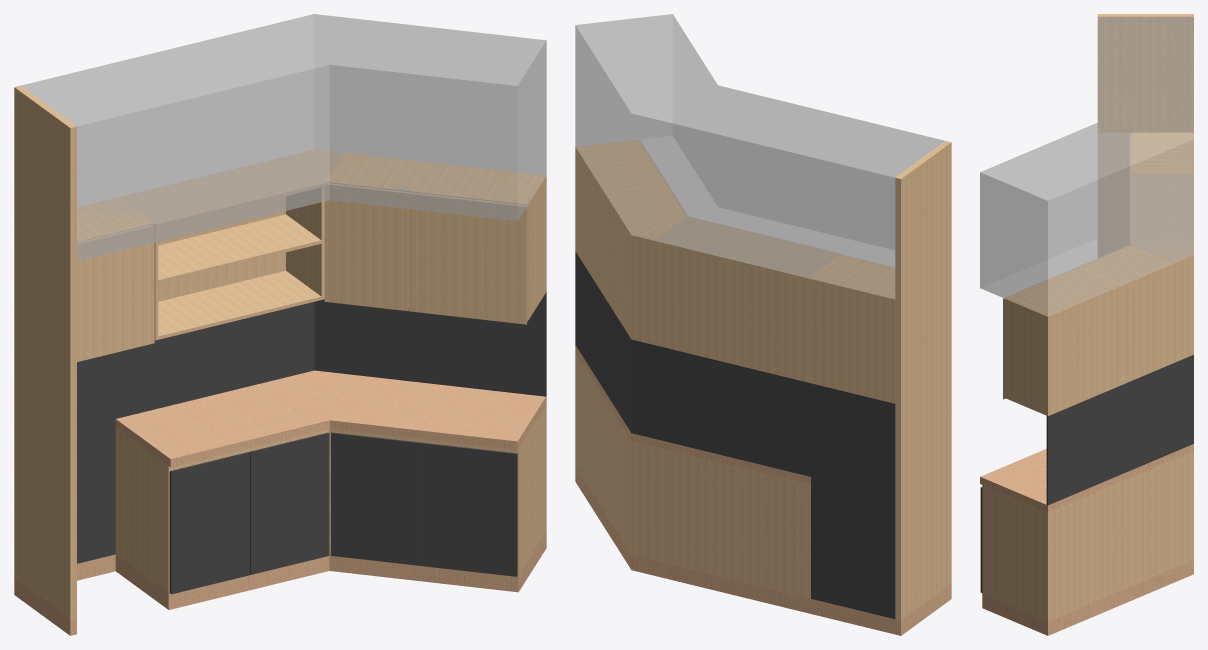
3 views of the same model, side by side, from view 1: azimuth 30°, elevation 25°; view 2: azimuth 150°, elevation 25°; view 3: azimuth 270°, elevation 25° (orthographic). The views are drawn at different scales.
Visible parts, largest first — view 1: Extrusion [2462115], CSW_Sunray_Cab-Dbl-Dr_instance_FingerGroove CSW_Sunray_Cab-D (×2), Joined Solid Geometry [2461947], Extrusion [2461962], Casework-Sunray_OS_01 OS_single [2462063], Extrusion [2461883], CSW-Sunray_OC1D OC1D2 500W 350D 800H [2462093], CSW-Sunray_OC1D OC1D2 500W 350D 800H [2462137], CSW-Sunray_OC1D OC1D2 500W 350D 800H [2462014], Extrusion [2461988], Extrusion [2461950], Extrusion [2462143]; view 2: Extrusion [2462115], Joined Solid Geometry [2461947], Extrusion [2461962], CSW_Sunray_Cab-Dbl-Dr_instance_FingerGroove CSW_Sunray_Cab-D (×2), Casework-Sunray_OS_01 OS_single [2462063], CSW-Sunray_OC1D OC1D2 500W 350D 800H [2462014], CSW-Sunray_OC1D OC1D2 500W 350D 800H [2462093], Extrusion [2462102], CSW-Sunray_OC1D OC1D2 500W 350D 800H [2462137], Extrusion [2462143], Extrusion [2461988], Extrusion [2461883] (+2 smaller); view 3: Extrusion [2462115], CSW_Sunray_Cab-Dbl-Dr_instance_FingerGroove CSW_Sunray_Cab-D, Extrusion [2461962], CSW-Sunray_OC1D OC1D2 500W 350D 800H [2462093], Joined Solid Geometry [2461947], CSW-Sunray_OC1D OC1D2 500W 350D 800H [2462137], Casework-Sunray_OS_01 OS_single [2462063], Extrusion [2461883], Extrusion [2461988], Extrusion [2462102], CSW-Sunray_OC1D OC1D2 500W 350D 800H [2462014], Extrusion [2462143].
Part boxes in pixels (x1,y1,x2,y2): Extrusion [2462115]: [21, 14, 546, 261]; CSW_Sunray_Cab-Dbl-Dr_instance_FingerGroove CSW_Sunray_Cab-D (×2): [115, 404, 546, 594]; Joined Solid Geometry [2461947]: [77, 292, 546, 563]; Extrusion [2461962]: [14, 85, 76, 618]; Casework-Sunray_OS_01 OS_single [2462063]: [118, 156, 324, 340]; Extrusion [2461883]: [115, 370, 546, 467]; CSW-Sunray_OC1D OC1D2 500W 350D 800H [2462093]: [408, 162, 546, 324]; CSW-Sunray_OC1D OC1D2 500W 350D 800H [2462137]: [324, 153, 426, 310]; CSW-Sunray_OC1D OC1D2 500W 350D 800H [2462014]: [77, 197, 154, 361]; Extrusion [2461988]: [115, 531, 546, 609]; Extrusion [2461950]: [14, 578, 76, 635]; Extrusion [2462143]: [288, 149, 343, 182]; Extrusion [2462115]: [575, 14, 945, 298]; Joined Solid Geometry [2461947]: [575, 251, 895, 618]; Extrusion [2461962]: [895, 141, 951, 620]; CSW_Sunray_Cab-Dbl-Dr_instance_FingerGroove CSW_Sunray_Cab-D (×2): [575, 352, 810, 598]; Casework-Sunray_OS_01 OS_single [2462063]: [655, 217, 841, 382]; CSW-Sunray_OC1D OC1D2 500W 350D 800H [2462014]: [808, 255, 895, 403]; CSW-Sunray_OC1D OC1D2 500W 350D 800H [2462093]: [575, 140, 668, 295]; Extrusion [2462102]: [620, 424, 667, 563]; CSW-Sunray_OC1D OC1D2 500W 350D 800H [2462137]: [604, 185, 687, 327]; Extrusion [2462143]: [624, 216, 687, 345]; Extrusion [2461988]: [575, 467, 810, 613]; Extrusion [2461883]: [575, 345, 810, 484]; Extrusion [2462115]: [980, 16, 1193, 316]; CSW_Sunray_Cab-Dbl-Dr_instance_FingerGroove CSW_Sunray_Cab-D: [980, 463, 1165, 621]; Extrusion [2461962]: [1097, 14, 1193, 257]; CSW-Sunray_OC1D OC1D2 500W 350D 800H [2462093]: [1003, 267, 1122, 415]; Joined Solid Geometry [2461947]: [1046, 354, 1193, 505]; CSW-Sunray_OC1D OC1D2 500W 350D 800H [2462137]: [1079, 245, 1174, 384]; Casework-Sunray_OS_01 OS_single [2462063]: [1130, 173, 1193, 243]; Extrusion [2461883]: [980, 444, 1193, 512]; Extrusion [2461988]: [982, 560, 1193, 635]; Extrusion [2462102]: [1165, 451, 1193, 571]; CSW-Sunray_OC1D OC1D2 500W 350D 800H [2462014]: [1130, 132, 1193, 173]; Extrusion [2462143]: [1130, 244, 1193, 362].
Size of the model in its own units: 109 by 118 by 52.57.
Materials: 6 (4 with a texture image).
